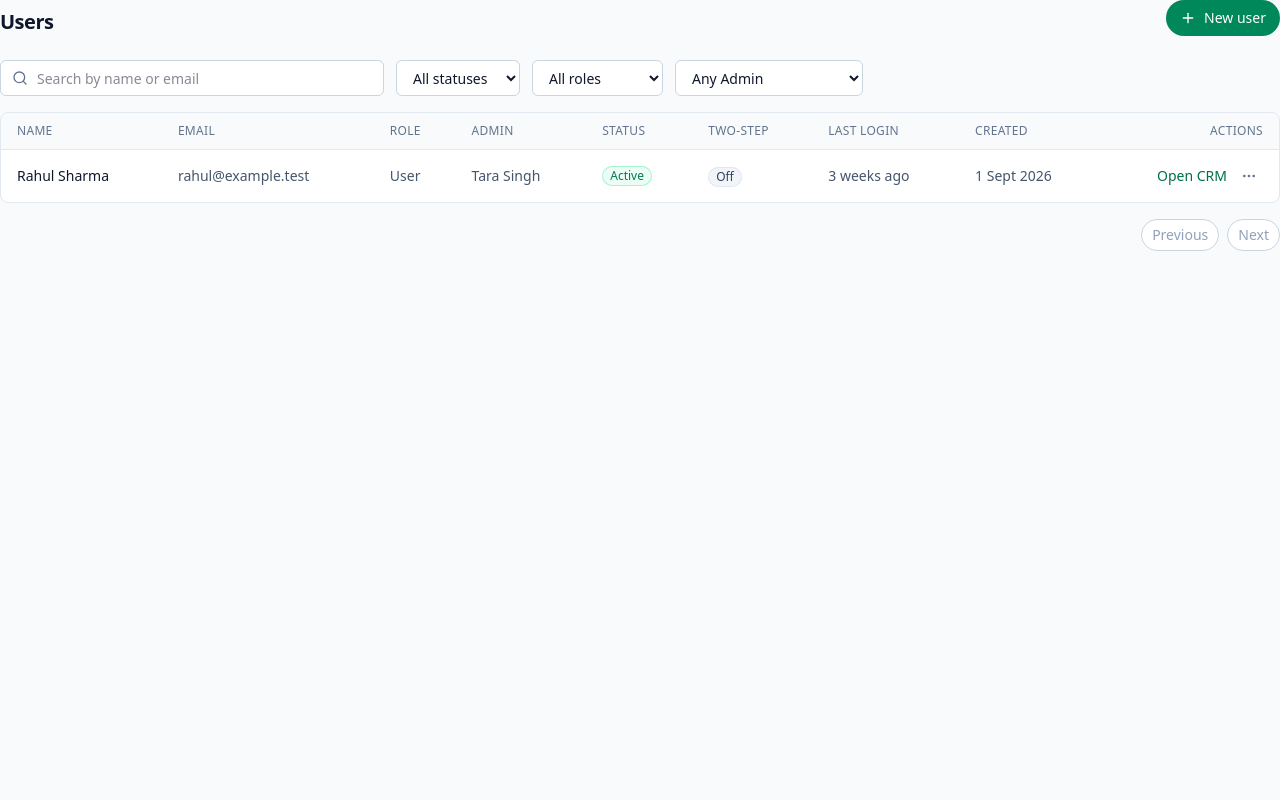
it: a Super admin › moves a User to another team from their details, then is back there with the outcome
The width and height of the screenshot is (1280, 800).
Click the button "Rahul Sharma" at (63, 176), box 17,166 -> 109,186
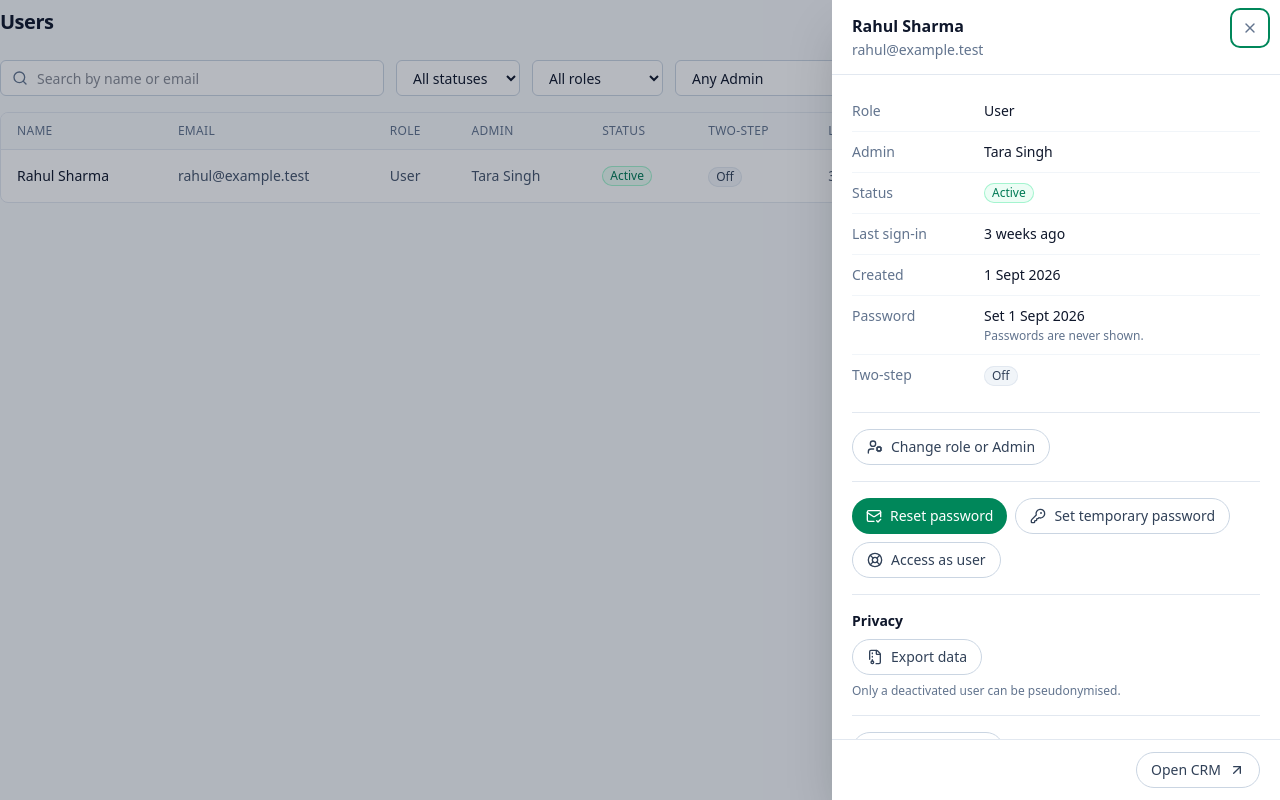
Click the button "Change role or Admin" at (951, 447), box 852,429 -> 1050,465
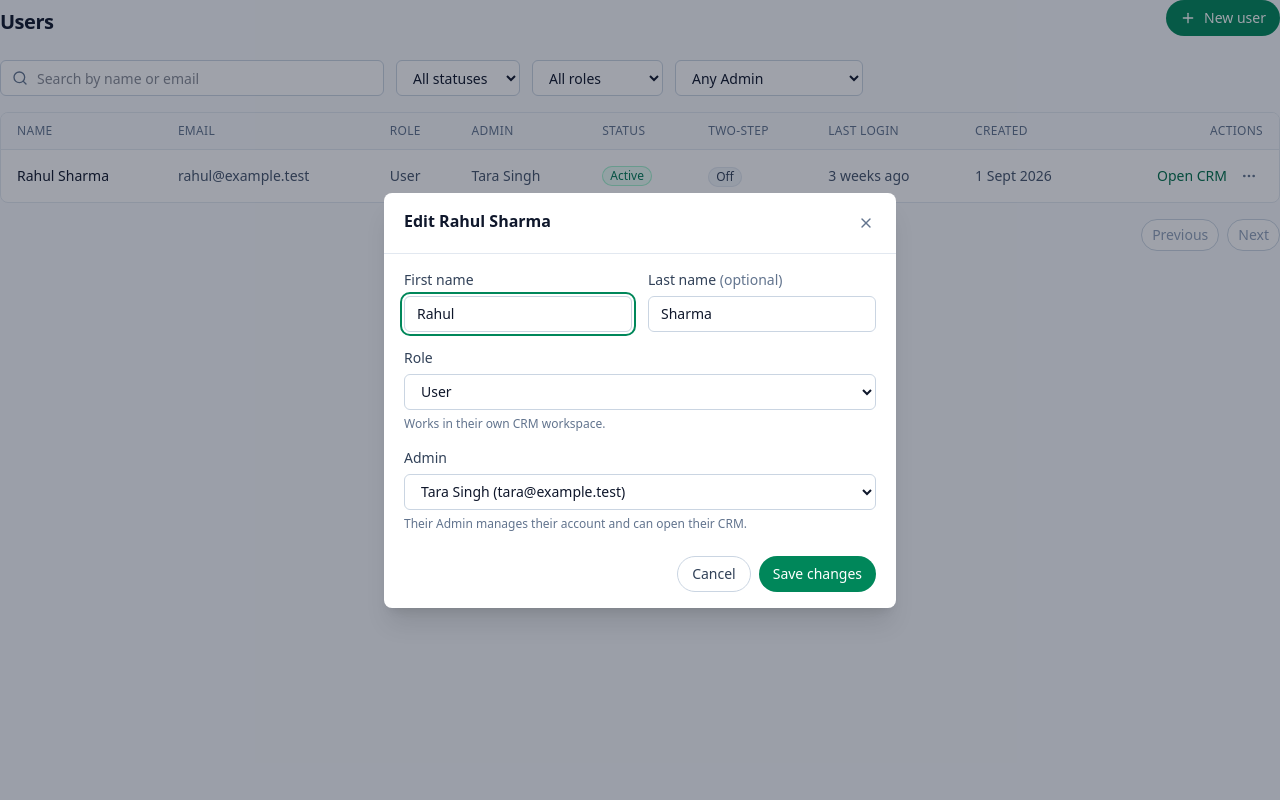
Expected: the dropdown labelled "Admin" shows "Tara Singh (tara@example.test)"
Select "No admin (managed by Super admins)" in the dropdown labelled "Admin" at (640, 492), box 404,474 -> 876,510
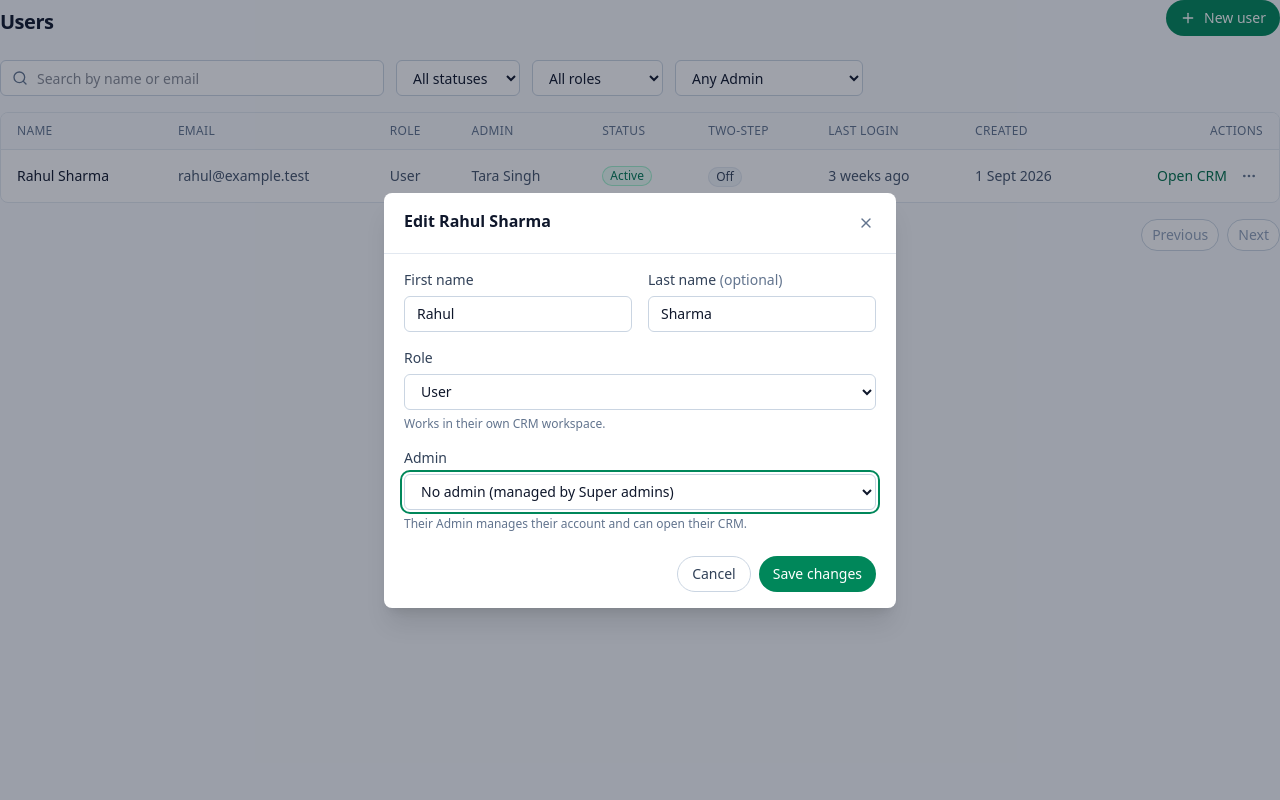
Click the button "Save changes" at (817, 574), box 759,556 -> 876,592
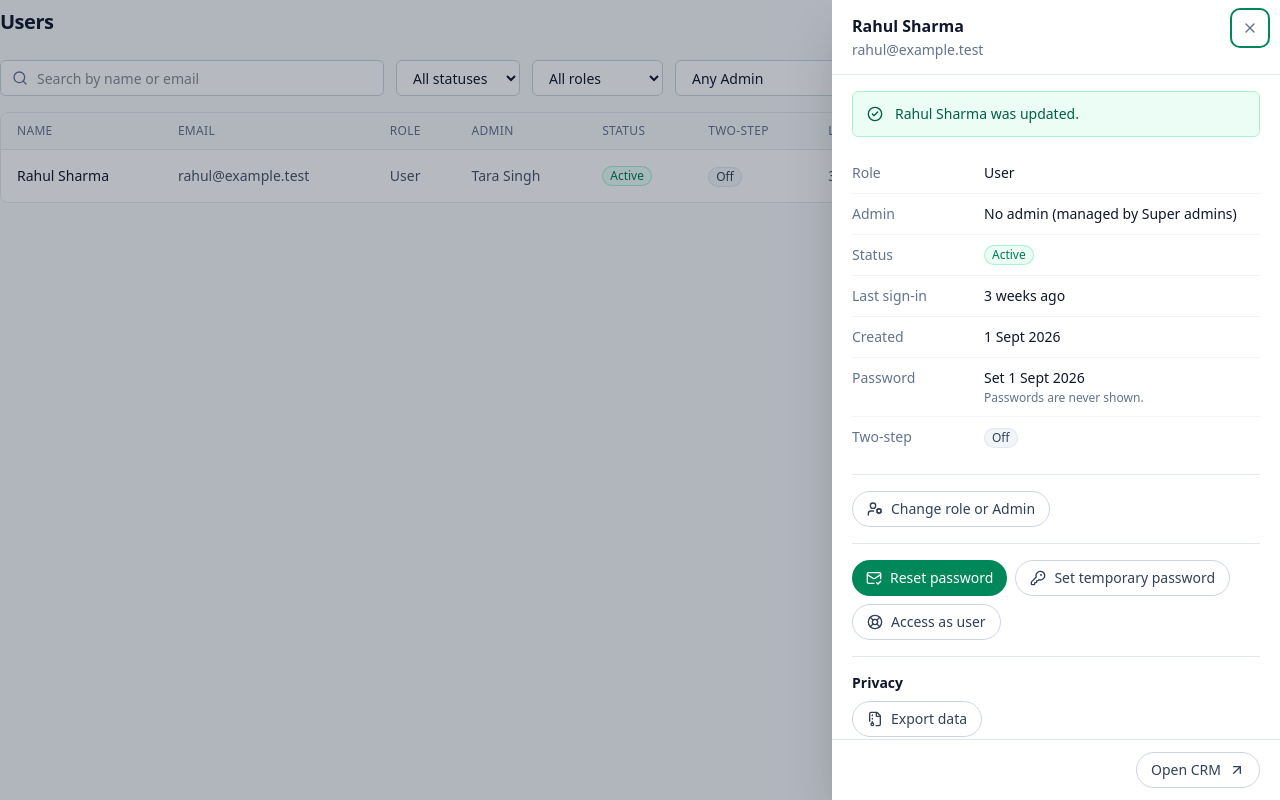
Expected: the message reads "Rahul Sharma was updated.", 895,104 -> 1079,123
